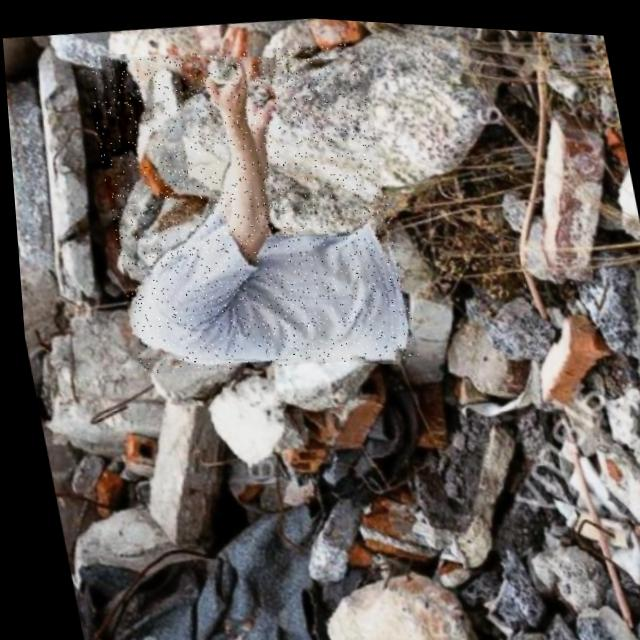Person in Rubble: (78, 24, 415, 385)
